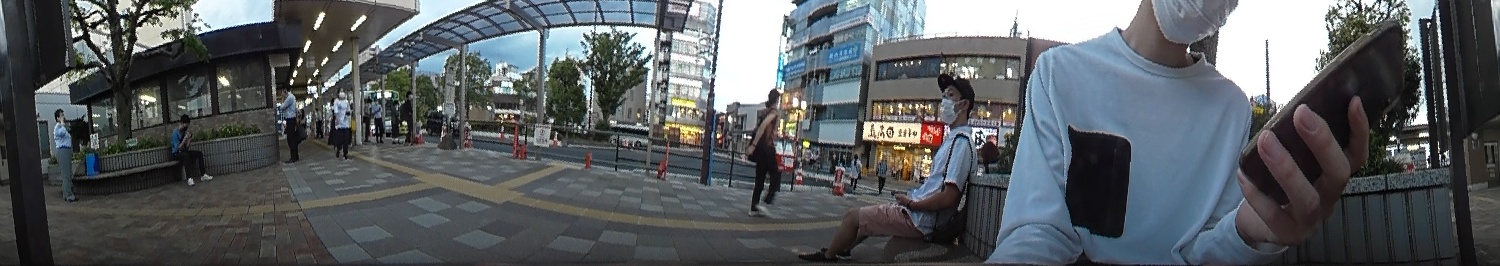difficult_person: (371, 97, 387, 142), (845, 153, 863, 190), (360, 95, 372, 144), (876, 153, 890, 193), (389, 97, 401, 141), (312, 104, 325, 139)
person: (801, 77, 982, 266), (745, 87, 785, 219), (48, 105, 82, 203), (168, 112, 213, 180), (277, 85, 306, 164), (327, 82, 352, 162)
